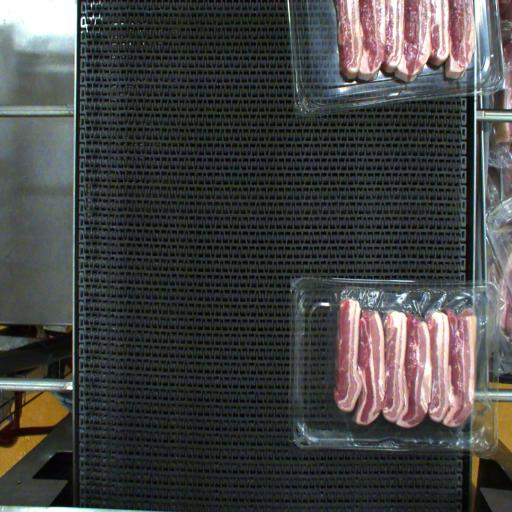unsealed: (332, 290, 488, 434)
